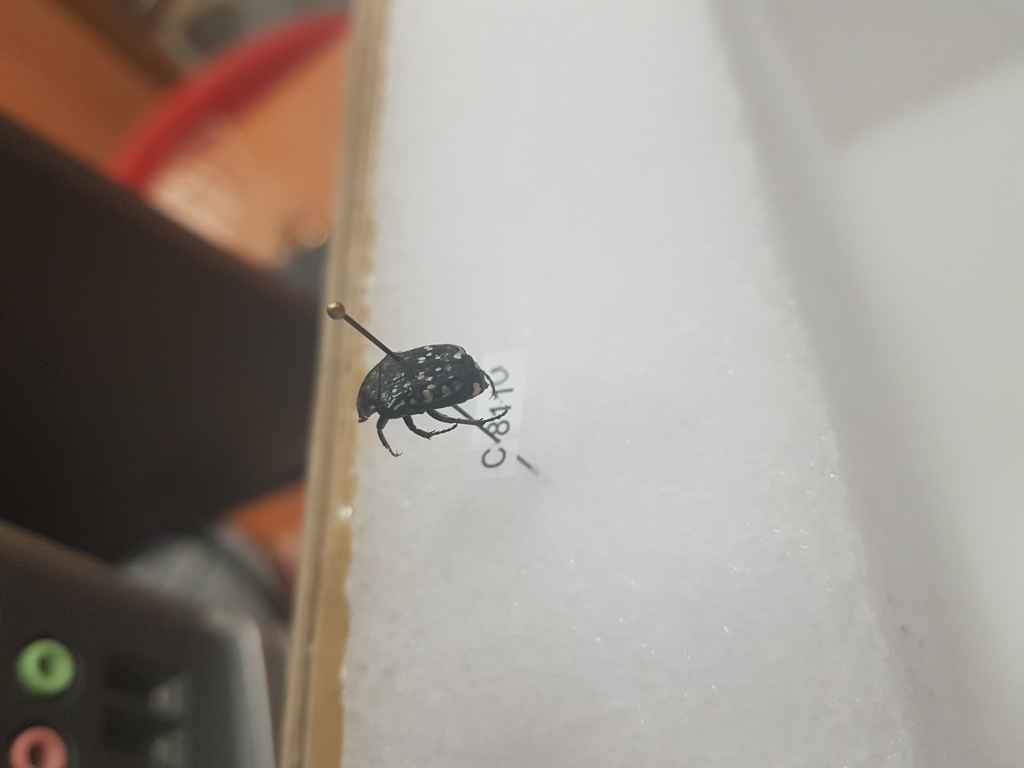Oxythyrea_albopicta: (345, 337, 508, 457)
